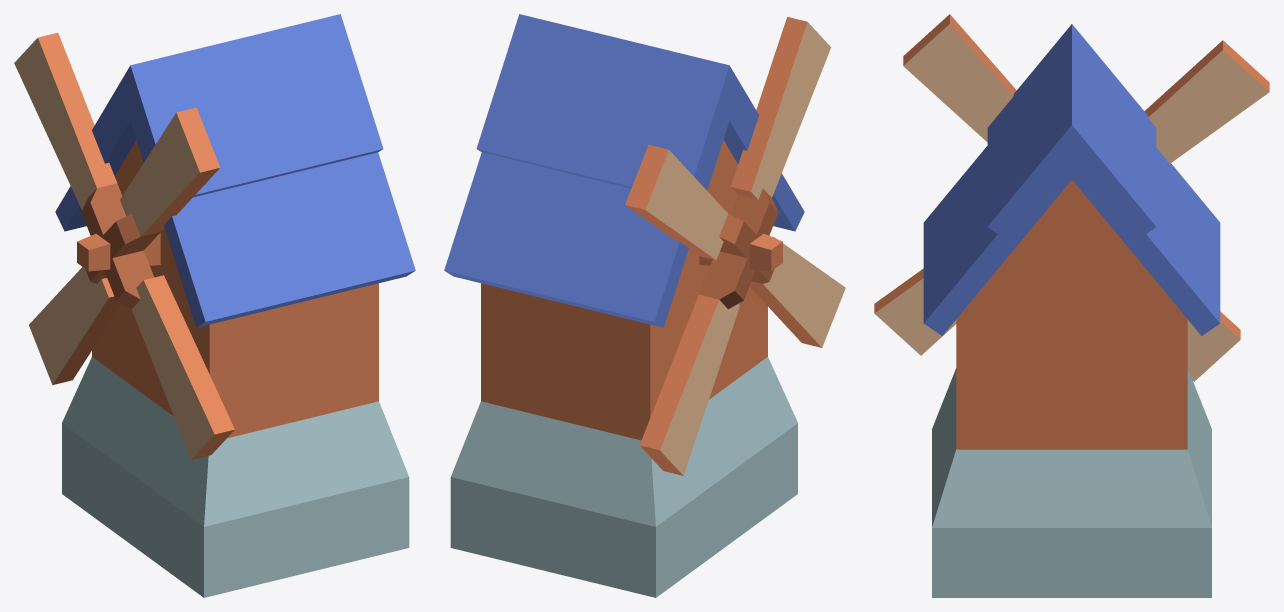
The model's file is unit_mill.fbx.
3 renders of one model, left to right at view 1: azimuth 30°, elevation 25°; view 2: azimuth 150°, elevation 25°; view 3: azimuth 270°, elevation 25°, orthographic.
Parts seen in each view (by area): view 1: unit_mill, mill; view 2: unit_mill, mill; view 3: unit_mill, mill.
Boxes of the visible parts, x1,y1,x2,y2 form: unit_mill: (55, 14, 415, 597); mill: (14, 32, 234, 459); unit_mill: (444, 14, 804, 597); mill: (625, 17, 845, 475); unit_mill: (923, 24, 1220, 597); mill: (874, 14, 1269, 381).
Bounding box in the file's own units: 3.8 × 6.81 × 5.12.
